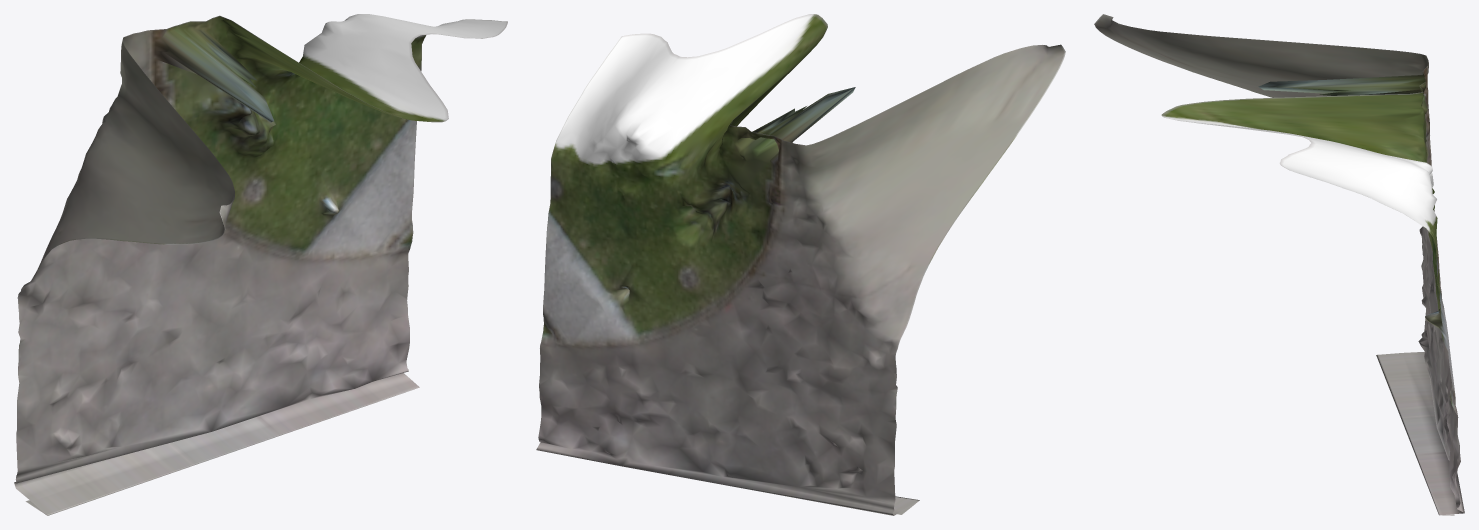
Rendered from map_0_90.obj.
3 views of the same model, side by side, from view 1: azimuth 30°, elevation 25°; view 2: azimuth 150°, elevation 25°; view 3: azimuth 270°, elevation 25° (orthographic). The views are drawn at different scales.
Parts seen in each view (by area): view 1: map_0_90.obj; view 2: map_0_90.obj; view 3: map_0_90.obj.
Part boxes in pixels (left/top/right/bottom): map_0_90.obj: left=14, top=14, right=507, bottom=515; map_0_90.obj: left=536, top=14, right=1065, bottom=515; map_0_90.obj: left=1094, top=14, right=1464, bottom=515.
Size of the model in its own units: 10 by 10 by 9.82.
Materials: 1 (1 with a texture image).
